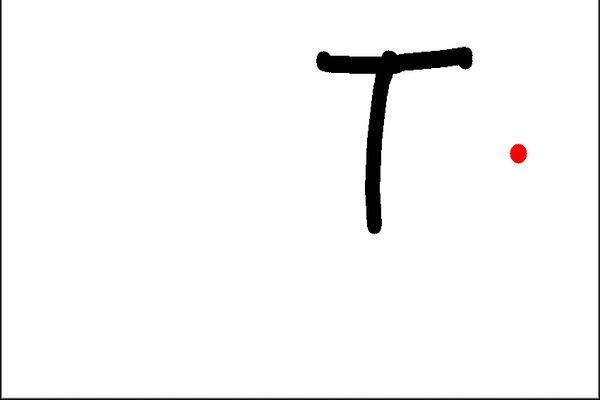T: (313, 40, 477, 232)
